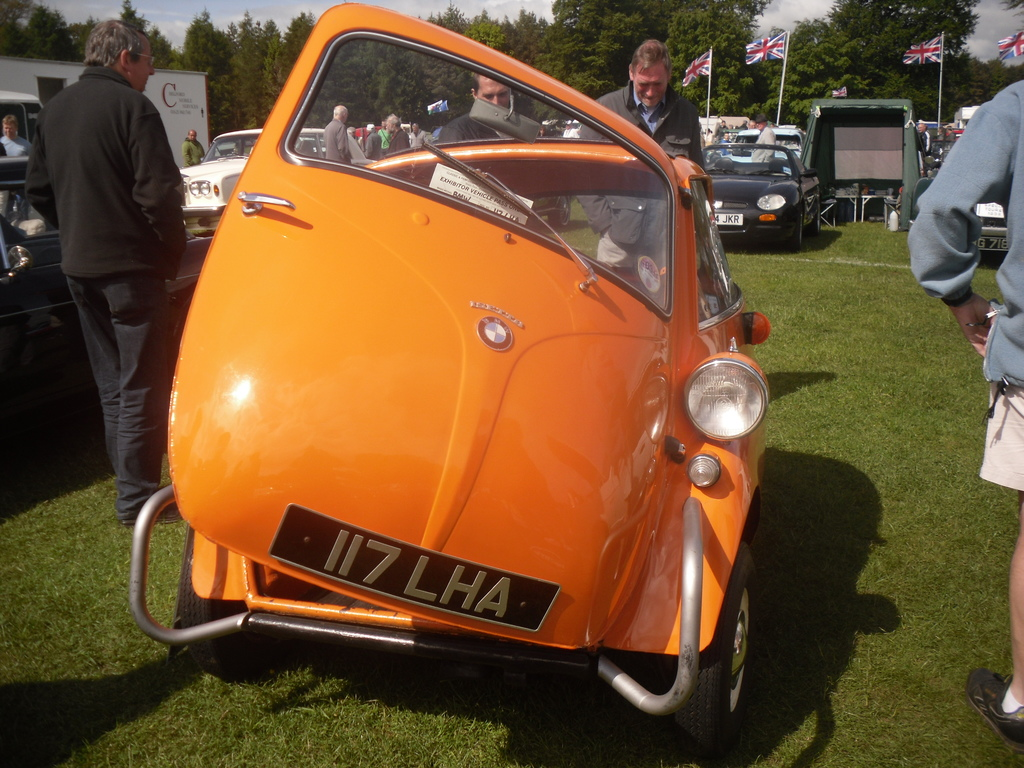Car: (0, 0, 1004, 767)
